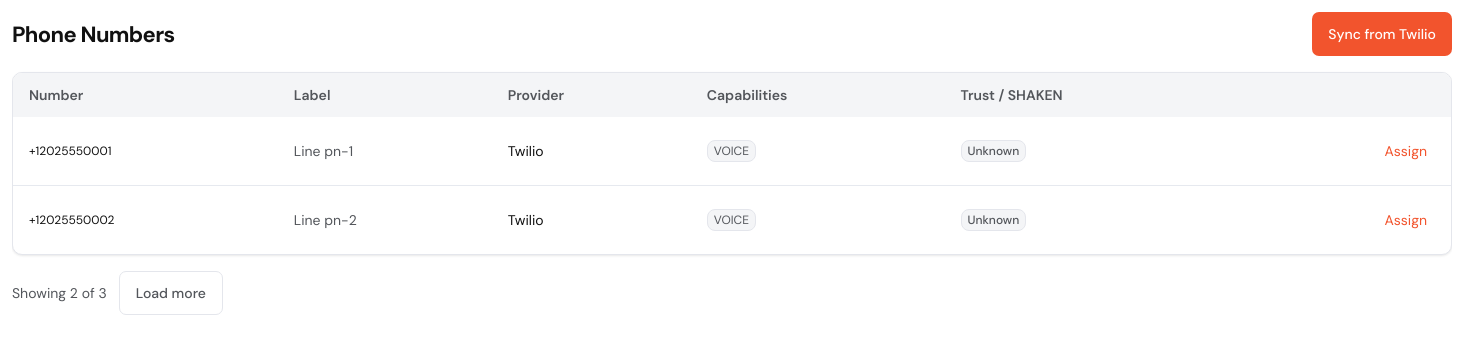
Test case: PhoneNumbers › appends the next page from the Load more control
Expected: the text "+12025550001" is shown, top-left (13, 117), bottom-right (278, 186)
Expected: the text "Showing 2 of 3" is shown, top-left (12, 283), bottom-right (107, 303)
Click the button "Load more": (171, 293) top-left (119, 271), bottom-right (223, 315)
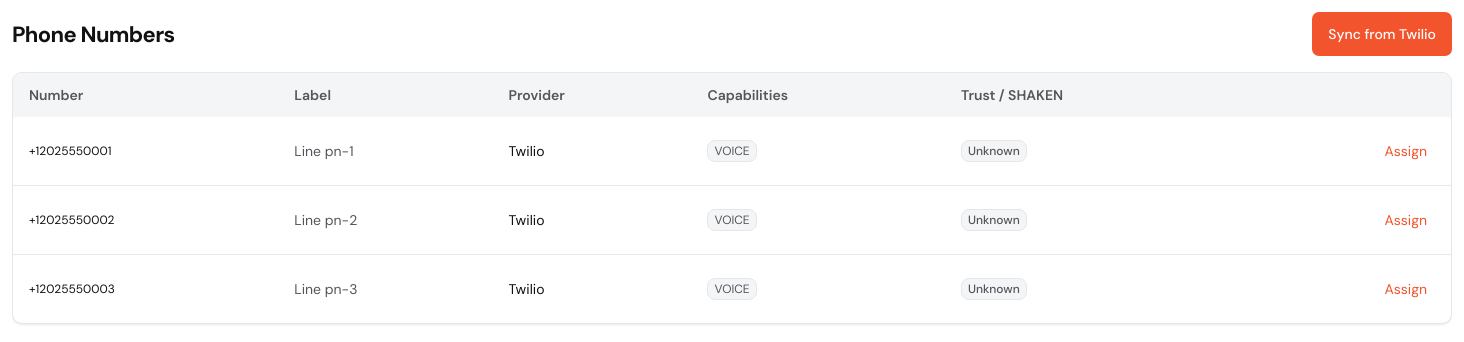
Expected: the text "+12025550003" is shown, top-left (13, 254), bottom-right (278, 323)
Expected: the button "Load more" is gone
